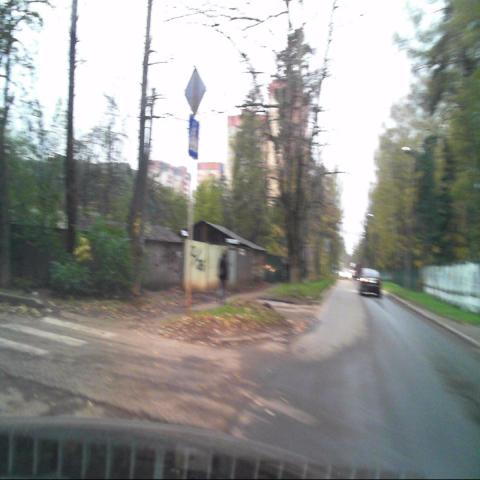5_19_1: (188, 118, 199, 159)
